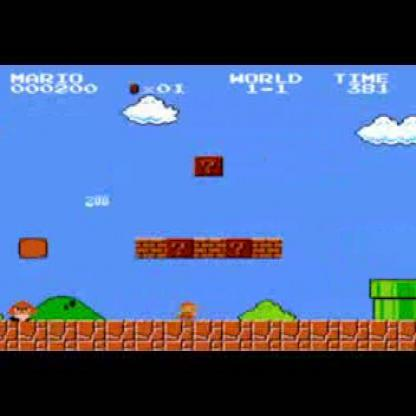Goomba: (7, 296, 37, 322)
